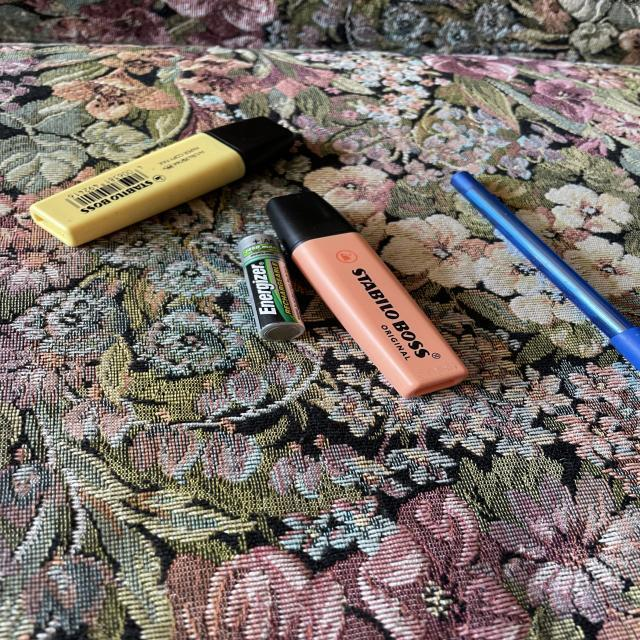Hazard: (237, 232, 307, 342)
